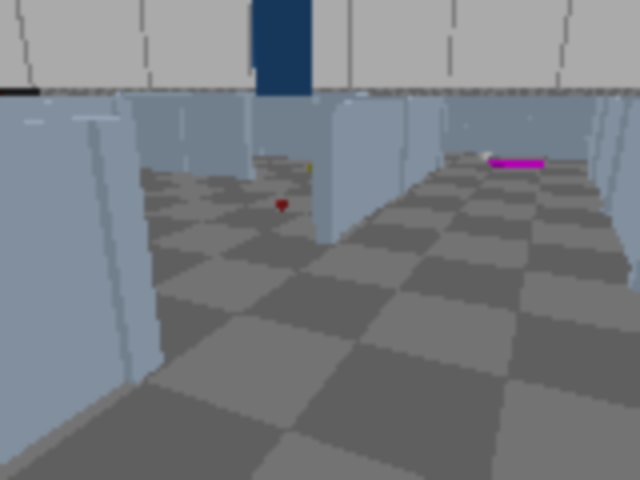goal_zone: (487, 158, 544, 169)
